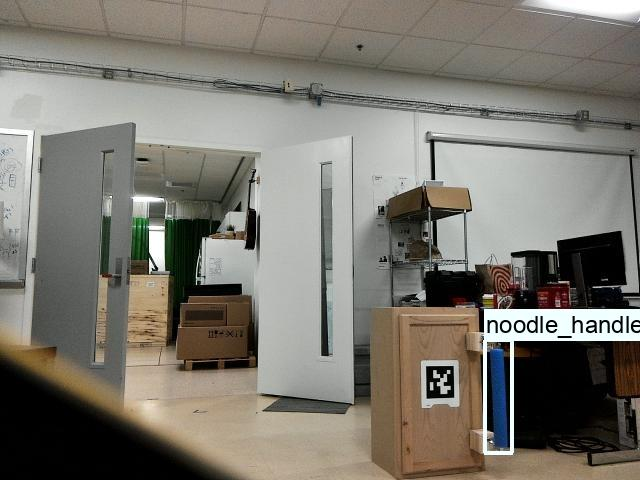noodle_handle: (484, 340, 513, 454)
